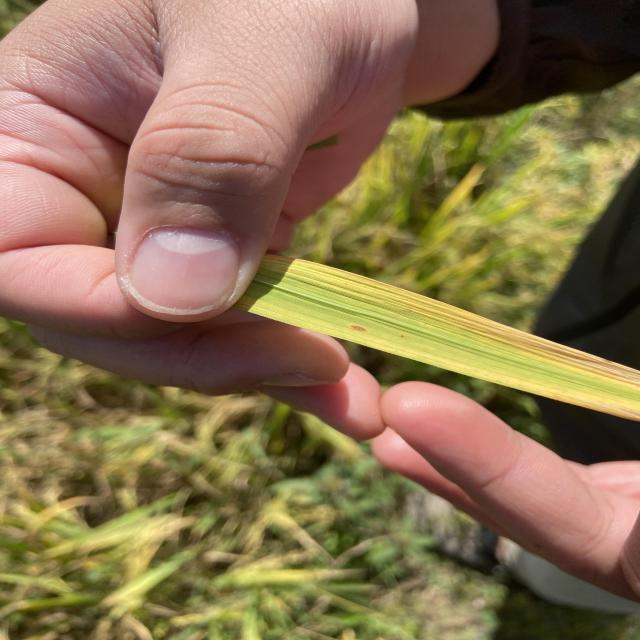Dom nau: (352, 326, 365, 331), (401, 335, 403, 337)
